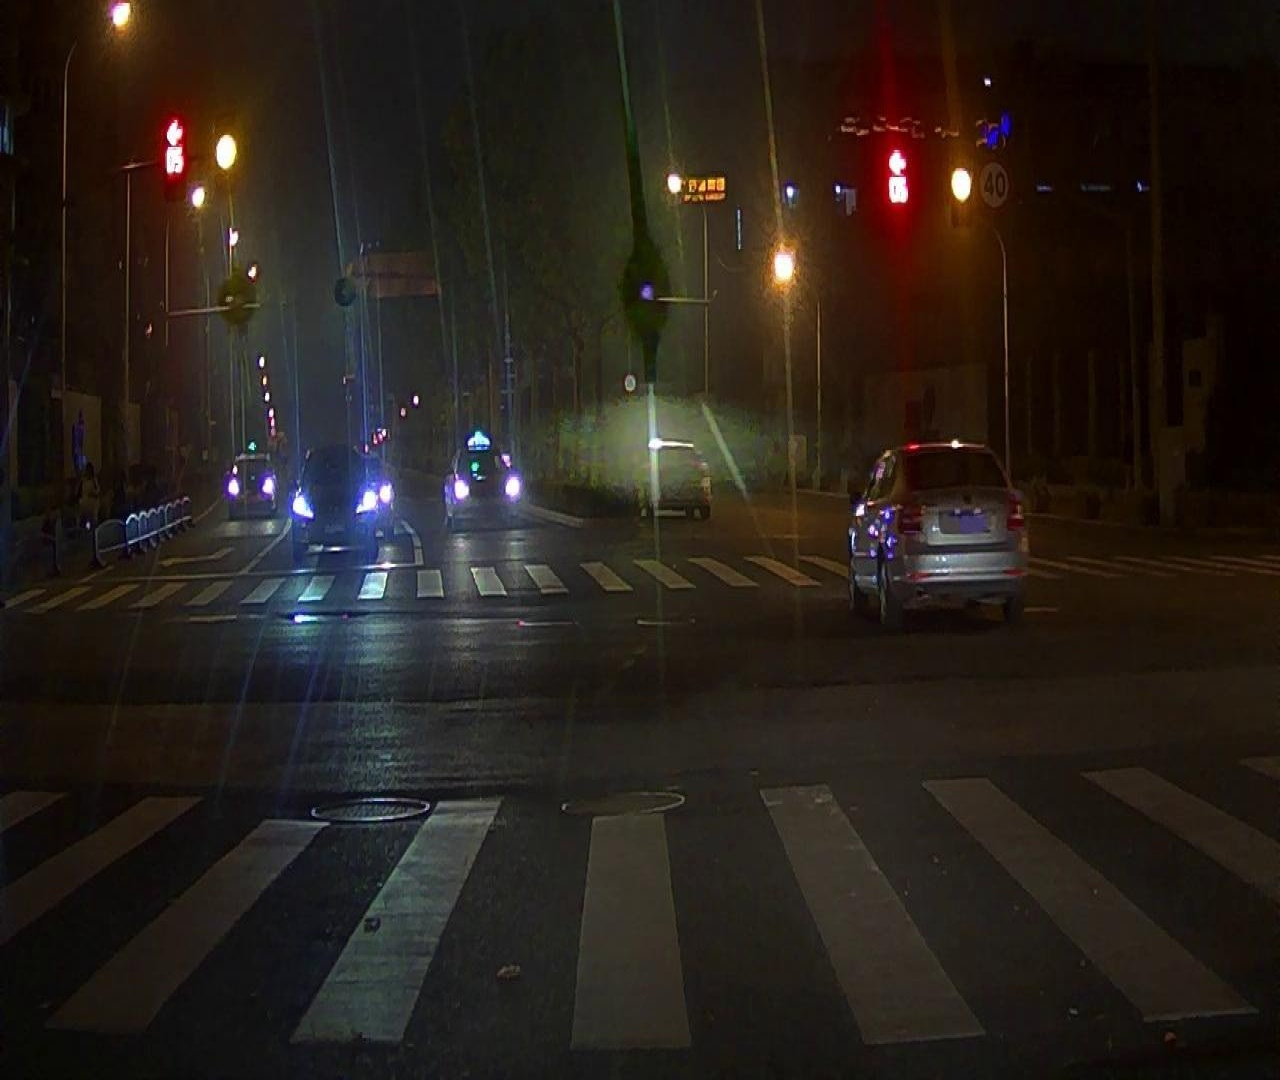red: (166, 118, 185, 196), (885, 147, 908, 208)
yellow: (215, 133, 236, 171), (952, 166, 970, 202)
